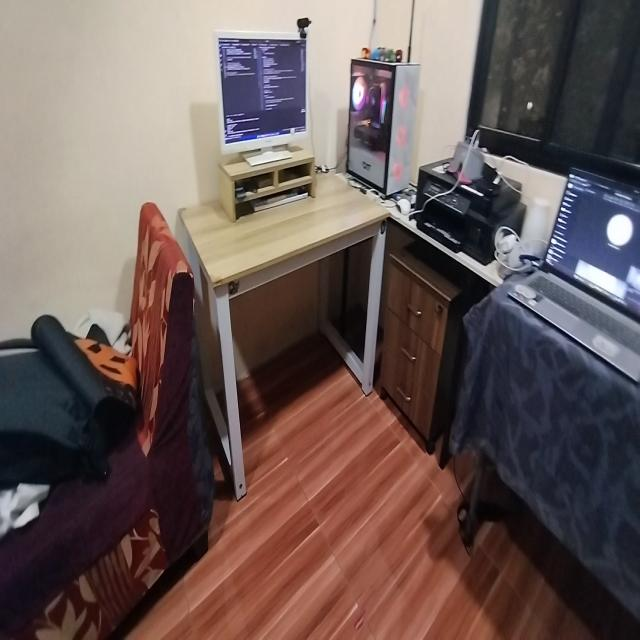table: (180, 159, 387, 489)
